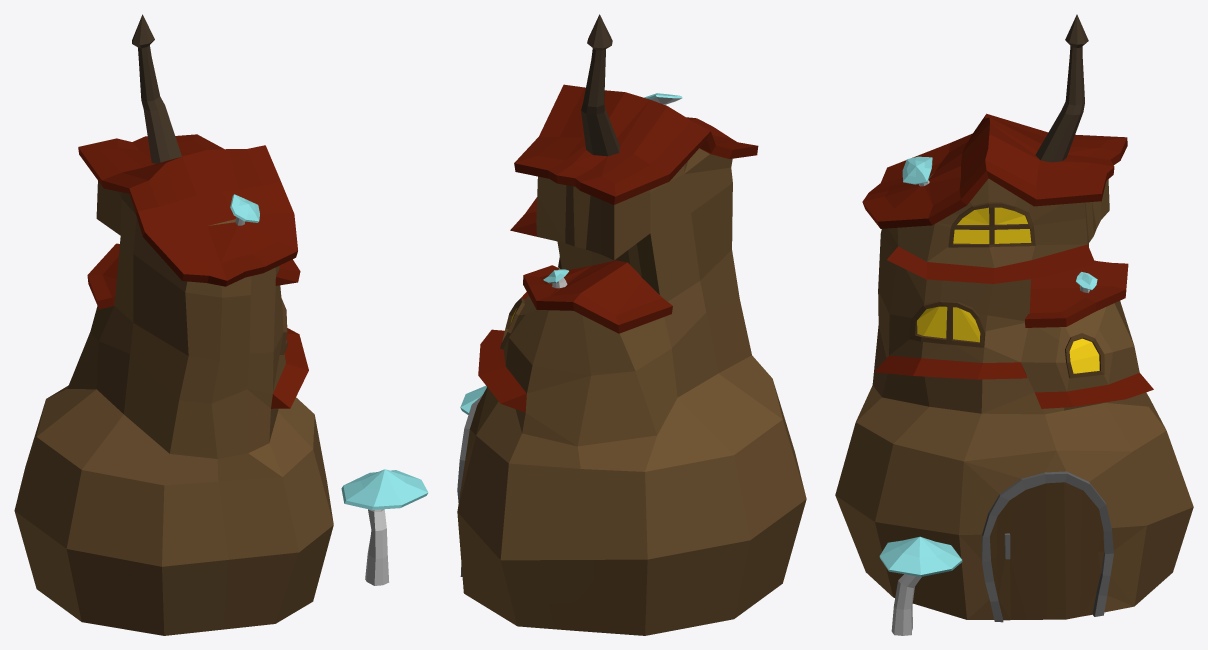
The model's file is Gnome_House.fbx.
The picture shows the model from 3 angles, left to right: view 1: azimuth 30°, elevation 25°; view 2: azimuth 150°, elevation 25°; view 3: azimuth 270°, elevation 25°; orthographic projection. The views are drawn at different scales.
Parts seen in each view (by area): view 1: Gnome_House; view 2: Gnome_House; view 3: Gnome_House.
Part boxes in pixels (left/top/right/bottom): Gnome_House: left=14, top=14, right=428, bottom=635; Gnome_House: left=457, top=14, right=806, bottom=635; Gnome_House: left=835, top=14, right=1193, bottom=635.
Bounding box in the file's own units: 910 × 1401 × 836.
